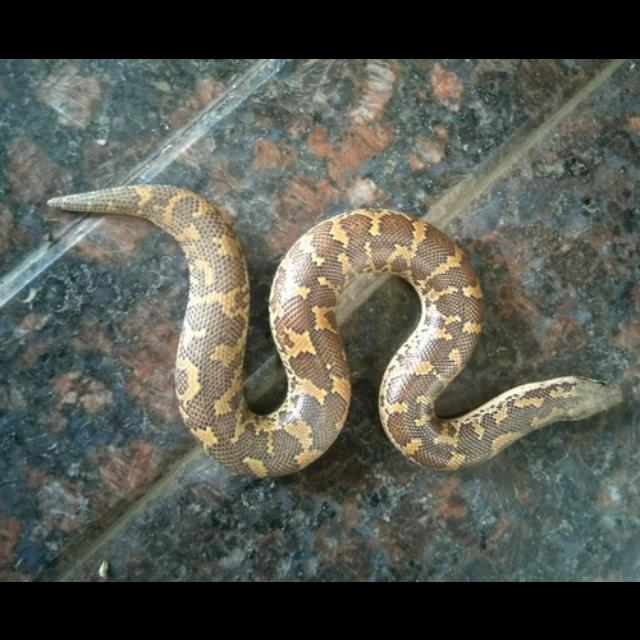snake: (40, 174, 632, 488)
